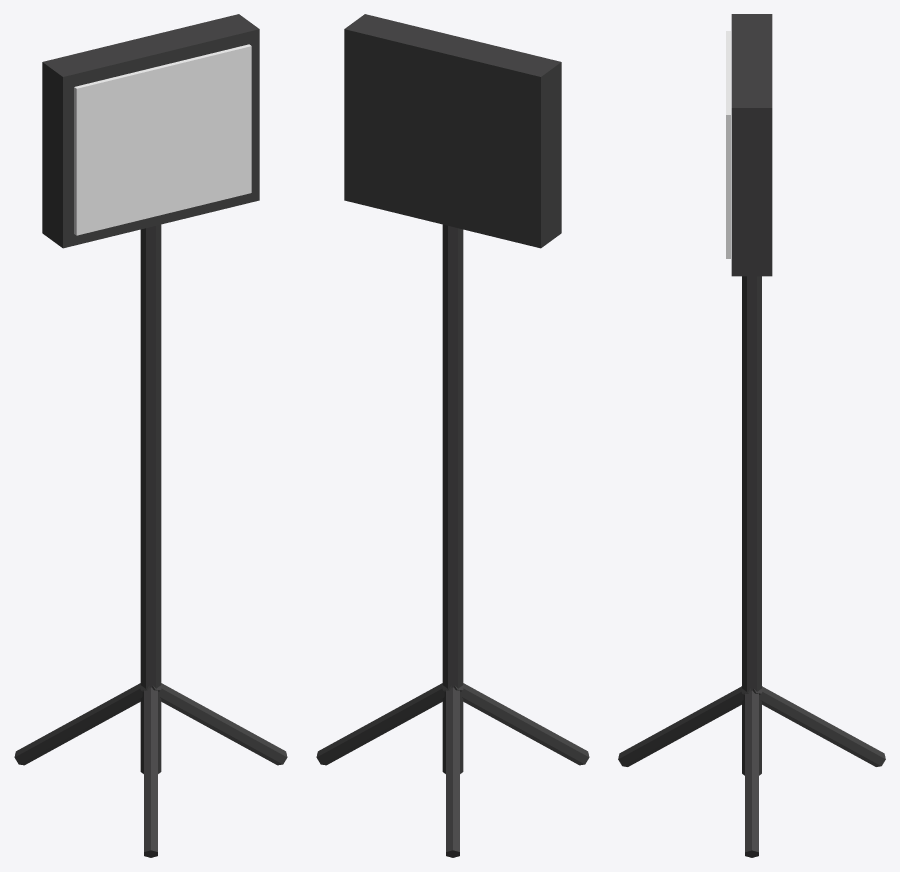
The picture shows the model from 3 angles, left to right: view 1: azimuth 30°, elevation 25°; view 2: azimuth 150°, elevation 25°; view 3: azimuth 270°, elevation 25°; orthographic projection.
Visible parts, largest first — view 1: Diffuser, Light panel, Pole, Tripod leg, Tripod leg.001, Tripod leg.002; view 2: Light panel, Pole, Tripod leg, Tripod leg.002, Tripod leg.001; view 3: Light panel, Pole, Tripod leg.001, Tripod leg.002, Tripod leg, Diffuser.
Part boxes in pixels (<box>): Diffuser: <box>74,44,251,235</box>; Light panel: <box>42,14,259,248</box>; Pole: <box>140,224,161,773</box>; Tripod leg: <box>139,683,287,765</box>; Tripod leg.001: <box>14,683,162,765</box>; Tripod leg.002: <box>144,687,157,857</box>; Light panel: <box>344,14,561,248</box>; Pole: <box>442,224,463,773</box>; Tripod leg: <box>316,683,464,765</box>; Tripod leg.002: <box>441,683,589,765</box>; Tripod leg.001: <box>446,687,459,857</box>; Light panel: <box>731,14,772,276</box>; Pole: <box>742,276,761,775</box>; Tripod leg.001: <box>741,686,885,766</box>; Tripod leg.002: <box>618,686,762,766</box>; Tripod leg: <box>745,690,758,857</box>; Diffuser: <box>726,31,730,258</box>.
Bounding box in the file's own units: 71.83 × 221 × 72.77.
